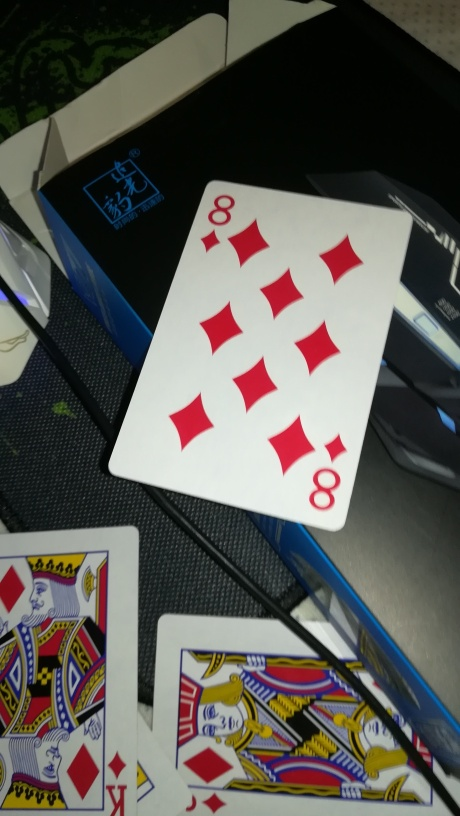fk 8: (108, 172, 413, 536)
